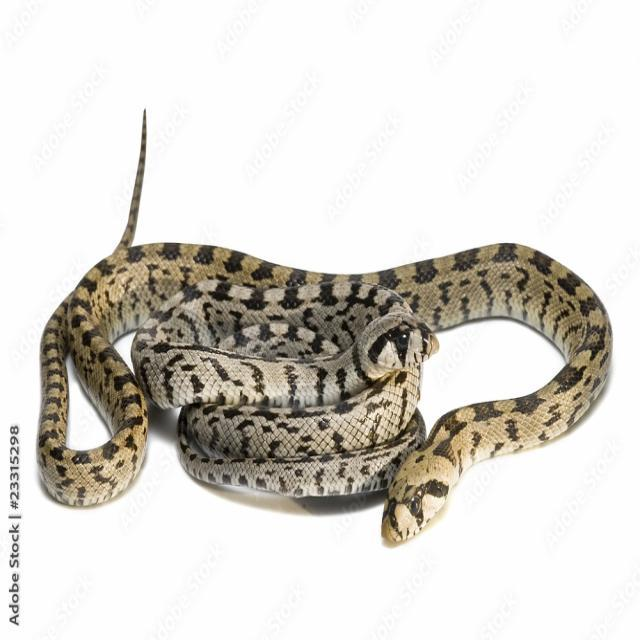Snake: (34, 89, 626, 562)
